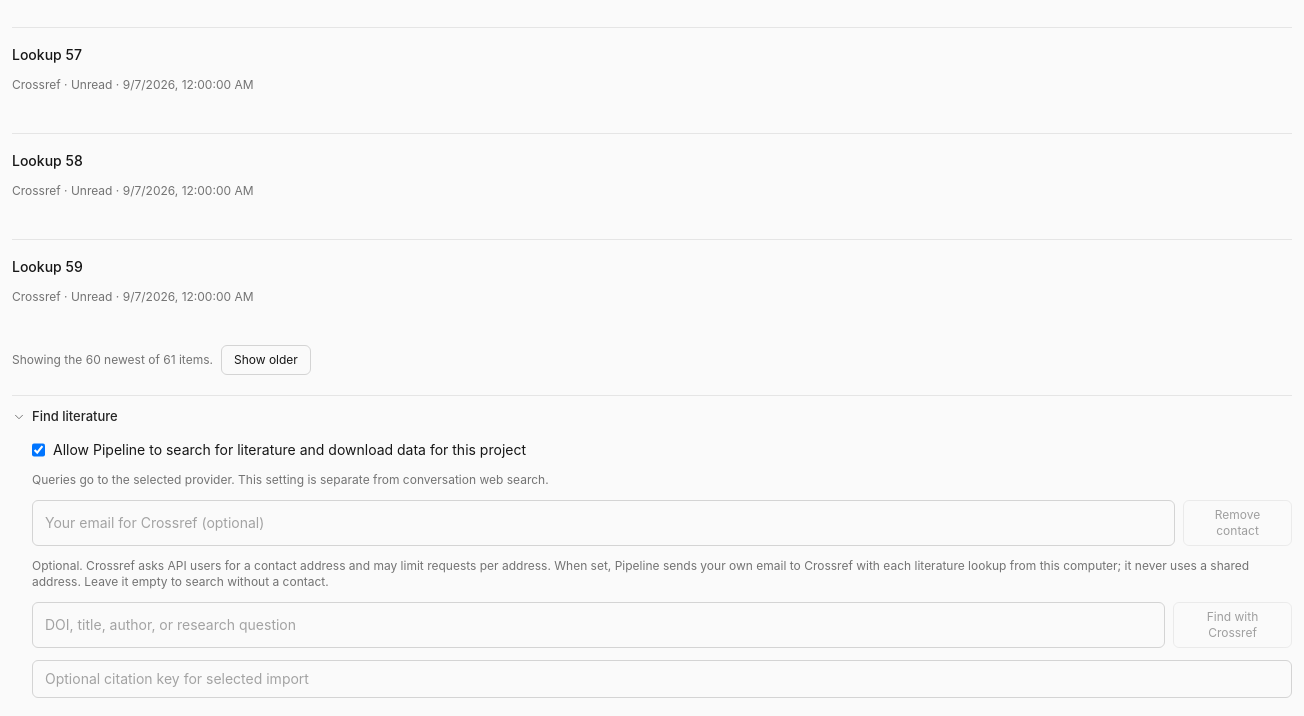
Scenario: reaches inbox items older than the first page
(page scrolled)
Expected: the heading "Lookup 59" is shown, [12, 258, 83, 275]
Expected: the text "Lookup 60" is not shown
Click the button "Show older": (266, 360) [221, 345, 311, 375]
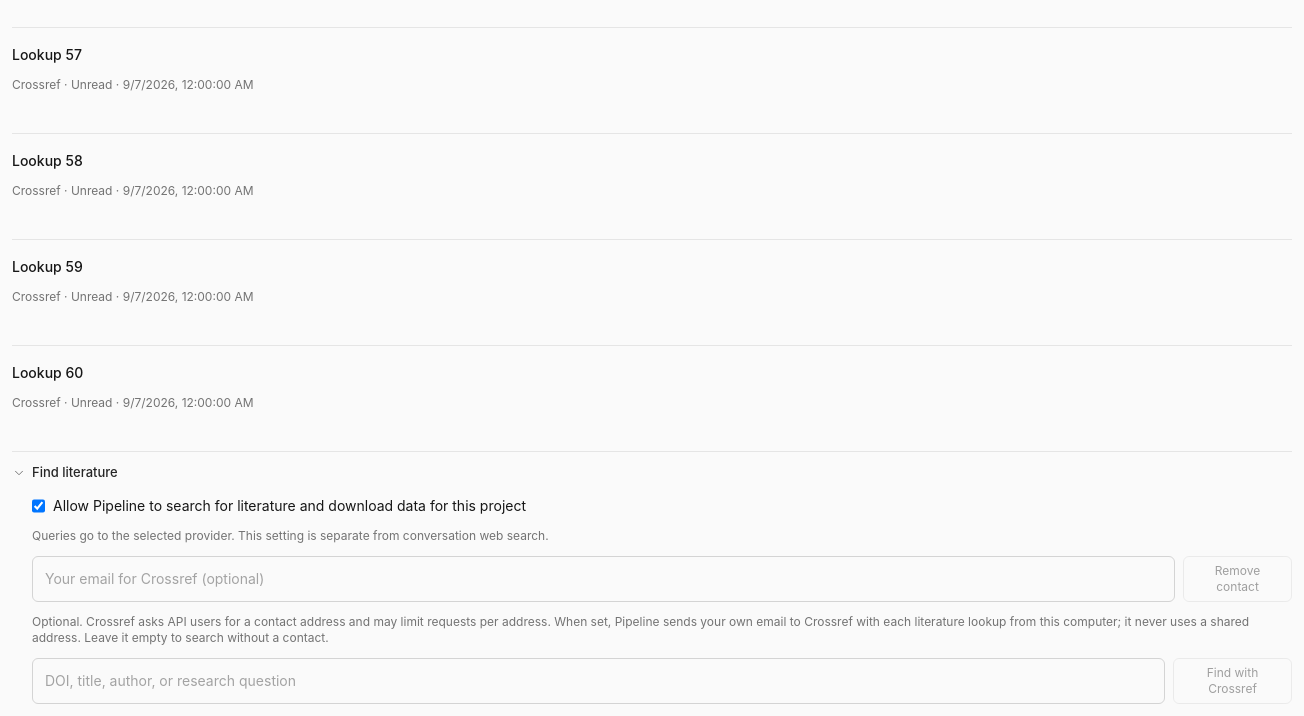
Result: the heading "Lookup 60" is shown at [12, 364, 83, 381]
Result: the button "Show older" is gone
